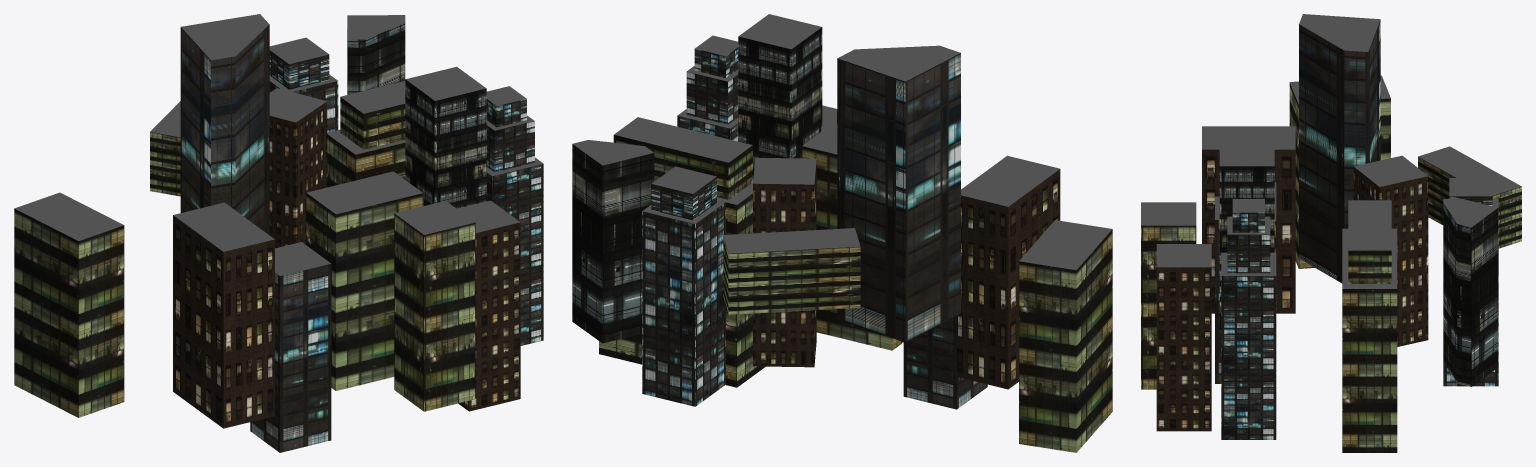
File: Buildings environment.fbx
3 renders of one model, left to right at view 1: azimuth 30°, elevation 25°; view 2: azimuth 150°, elevation 25°; view 3: azimuth 270°, elevation 25°, orthographic. The views are drawn at different scales.
Visible parts, largest first — view 1: Cube.018, Cube.012, Cube.013, Cube, Cube.002, Cube.003, Cube.004, Cube.001, Cube.005, Cube.014, Cube.008, Cube.016 (+2 smaller); view 2: Cube.013, Cube.018, Cube.010, Cube.012, Cube.016, Cube.015, Cube.004, Cube.008, Cube.014, Cube.005, Cube.003, Cube.002; view 3: Cube.013, Cube.008, Cube.005, Cube.001, Cube.016, Cube.014, Cube.012, Cube, Cube.004, Cube.015, Cube.018, Cube.010 (+1 smaller).
Boxes of the visible parts, x1,y1,x2,y2 form: Cube.018: [14, 192, 124, 417]; Cube.012: [173, 202, 274, 428]; Cube.013: [180, 14, 269, 234]; Cube: [394, 201, 475, 411]; Cube.002: [306, 171, 423, 390]; Cube.003: [250, 242, 331, 452]; Cube.004: [405, 66, 486, 208]; Cube.001: [457, 200, 520, 411]; Cube.005: [486, 86, 543, 345]; Cube.014: [269, 88, 327, 248]; Cube.008: [327, 81, 405, 187]; Cube.016: [347, 15, 405, 94]; Cube.013: [837, 45, 960, 342]; Cube.018: [1019, 220, 1112, 452]; Cube.010: [642, 166, 725, 406]; Cube.012: [955, 155, 1060, 389]; Cube.016: [572, 140, 654, 343]; Cube.015: [723, 228, 860, 314]; Cube.004: [738, 14, 822, 178]; Cube.008: [599, 117, 765, 387]; Cube.014: [753, 157, 816, 367]; Cube.005: [677, 35, 738, 141]; Cube.003: [903, 317, 987, 409]; Cube.002: [802, 123, 903, 350]; Cube.013: [1299, 14, 1380, 283]; Cube.008: [1342, 200, 1397, 452]; Cube.005: [1221, 199, 1276, 439]; Cube.001: [1156, 244, 1211, 431]; Cube.016: [1443, 196, 1498, 386]; Cube.014: [1353, 155, 1428, 346]; Cube.012: [1202, 126, 1295, 313]; Cube: [1141, 202, 1196, 389]; Cube.004: [1219, 143, 1274, 329]; Cube.015: [1418, 146, 1521, 248]; Cube.018: [1289, 75, 1390, 268]; Cube.010: [1443, 178, 1498, 386].
Bounding box in the file's own units: 1762 × 1348 × 1381.
